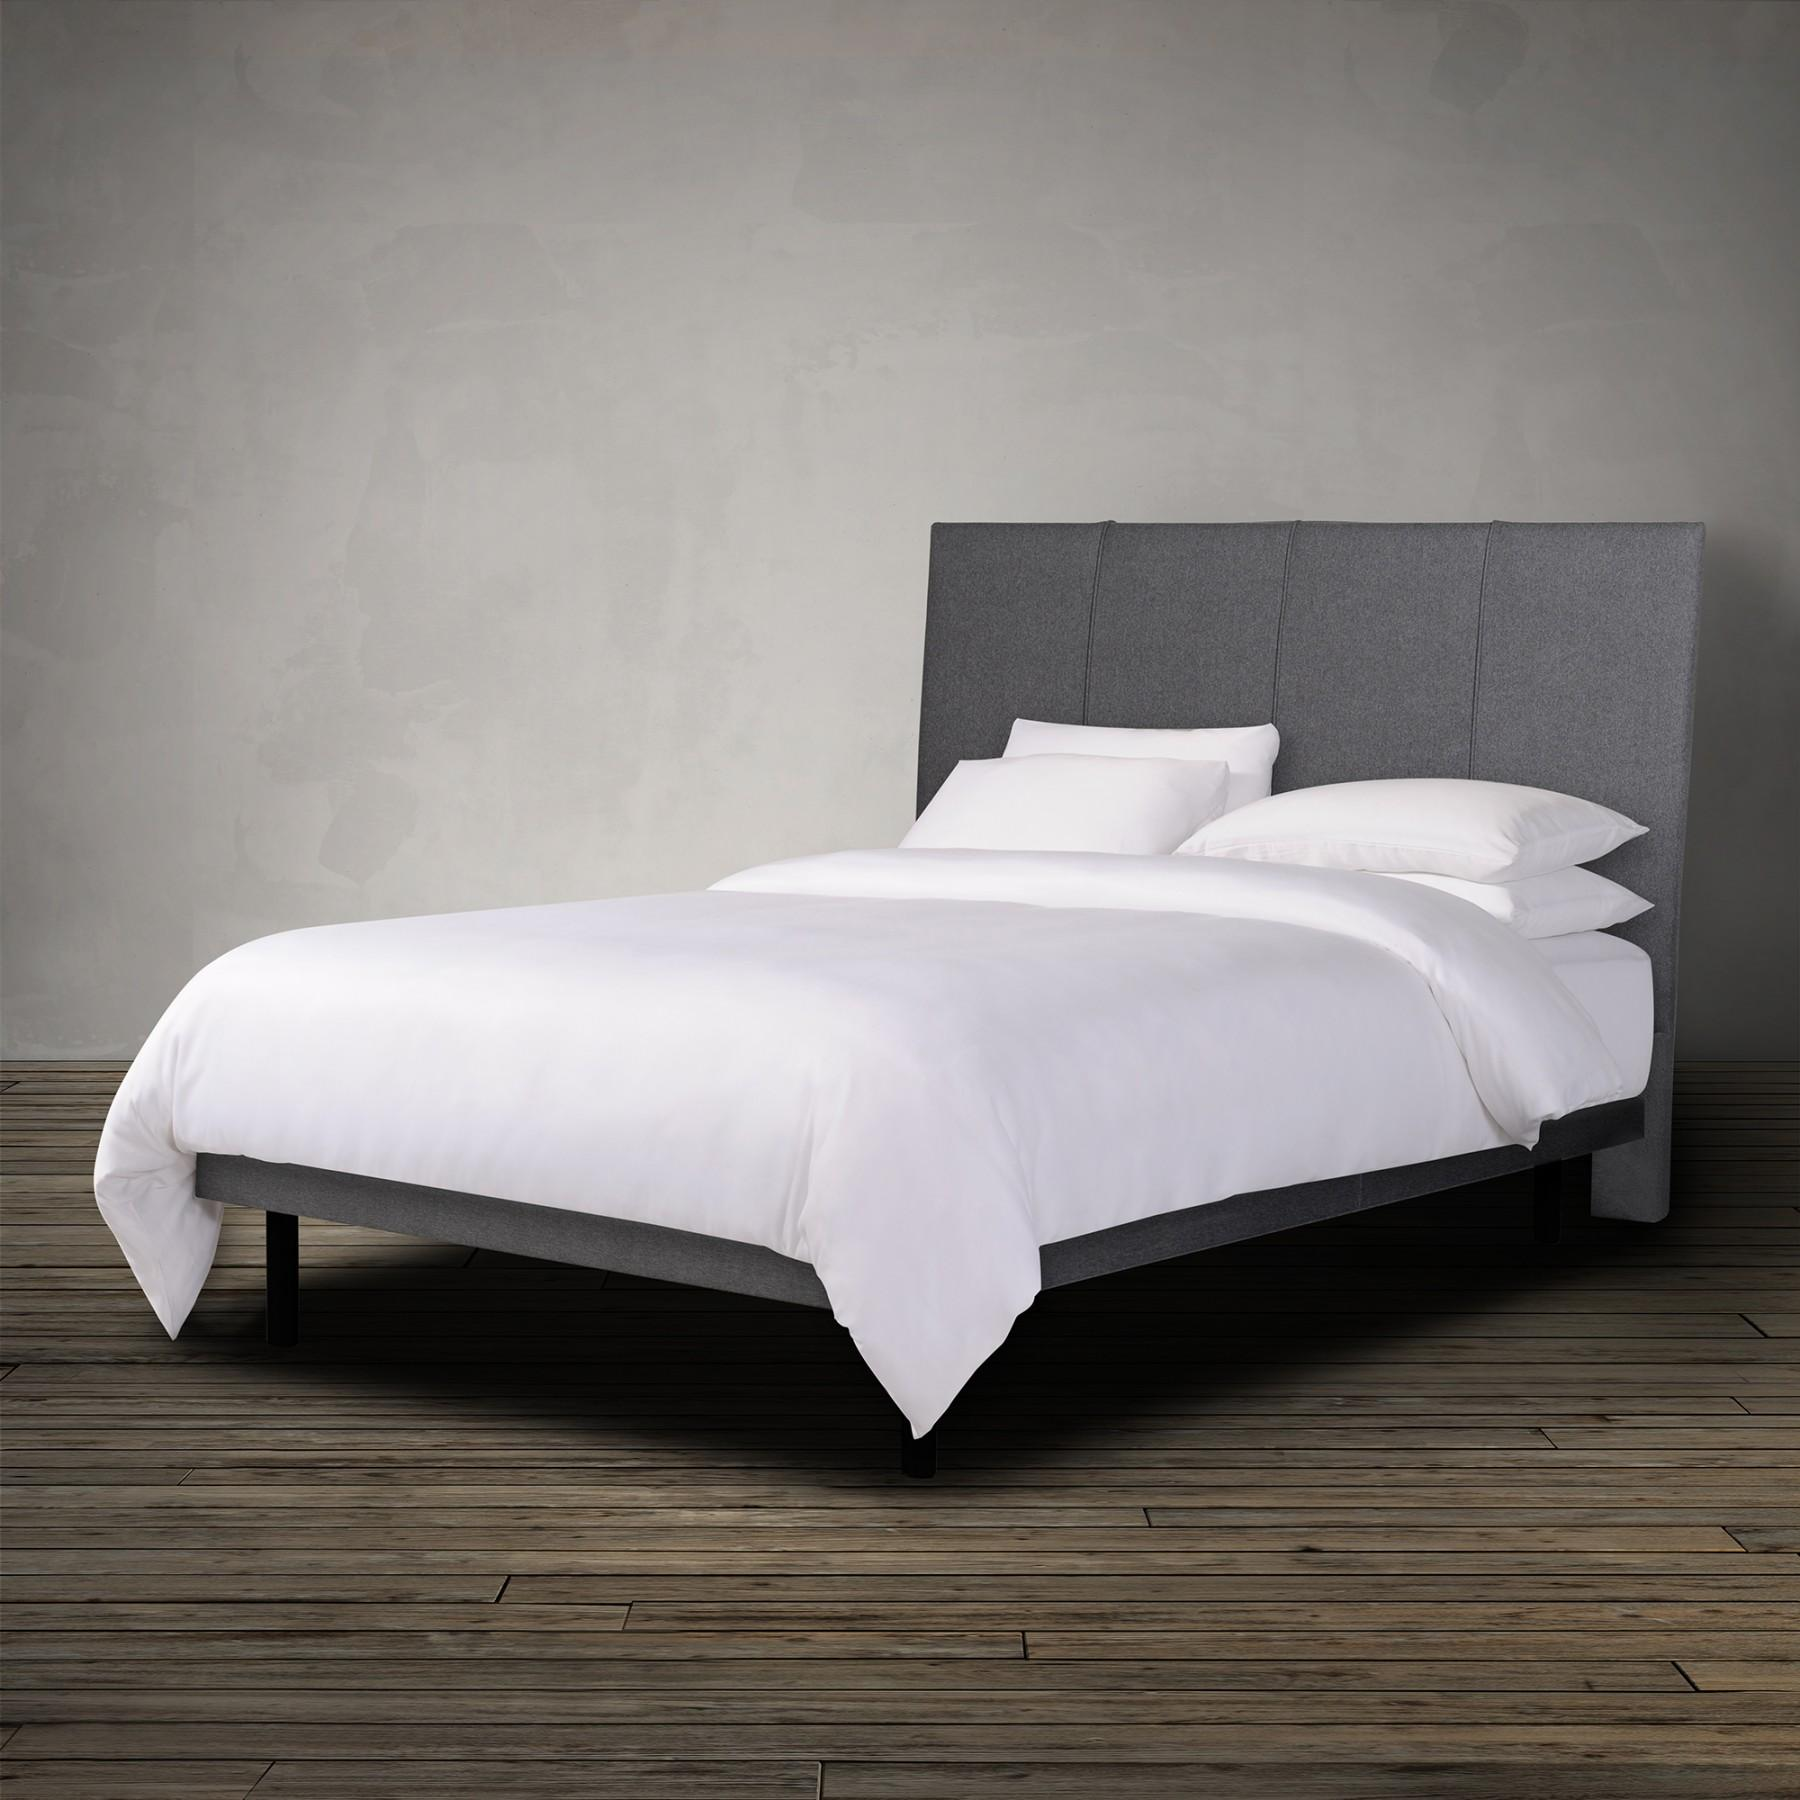bed: (165, 460, 1576, 1281)
